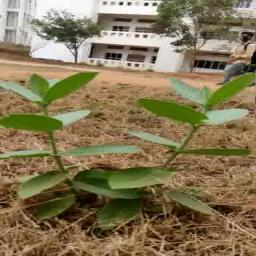CALOTROPIS: (9, 73, 256, 221)
